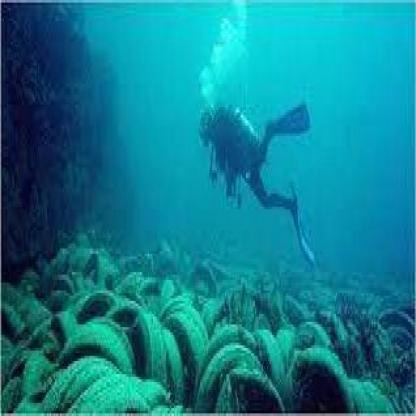tire: (10, 259, 416, 416)
